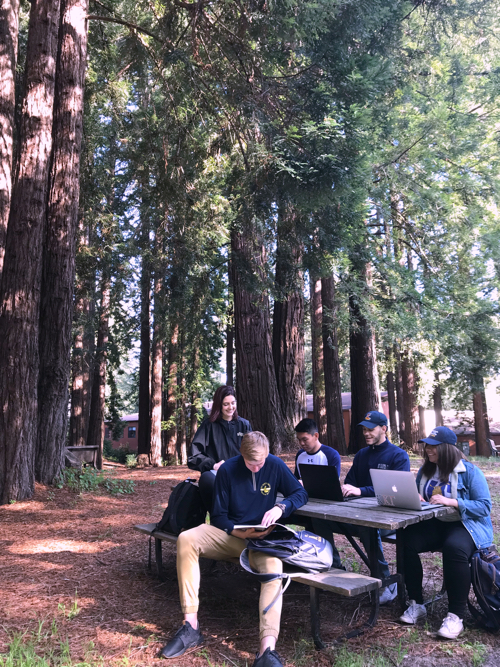Person: (159, 431, 310, 667), (399, 425, 500, 641), (342, 409, 413, 499), (186, 384, 254, 471), (293, 417, 341, 487)
